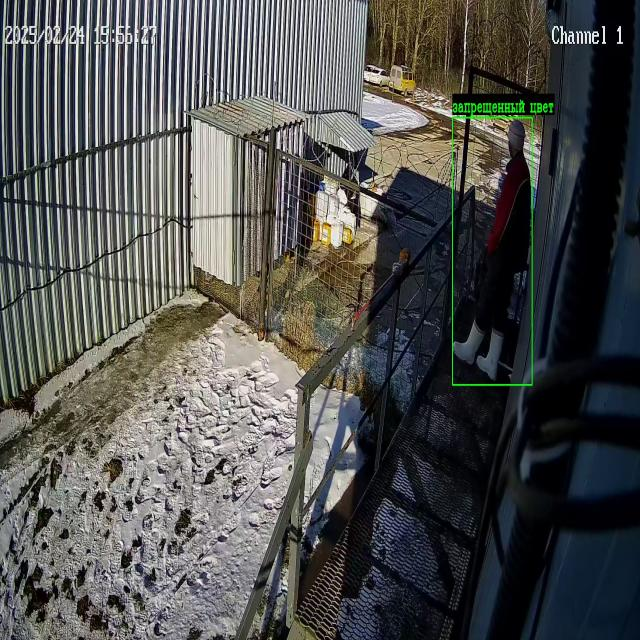Red uniform: (454, 120, 531, 379)
